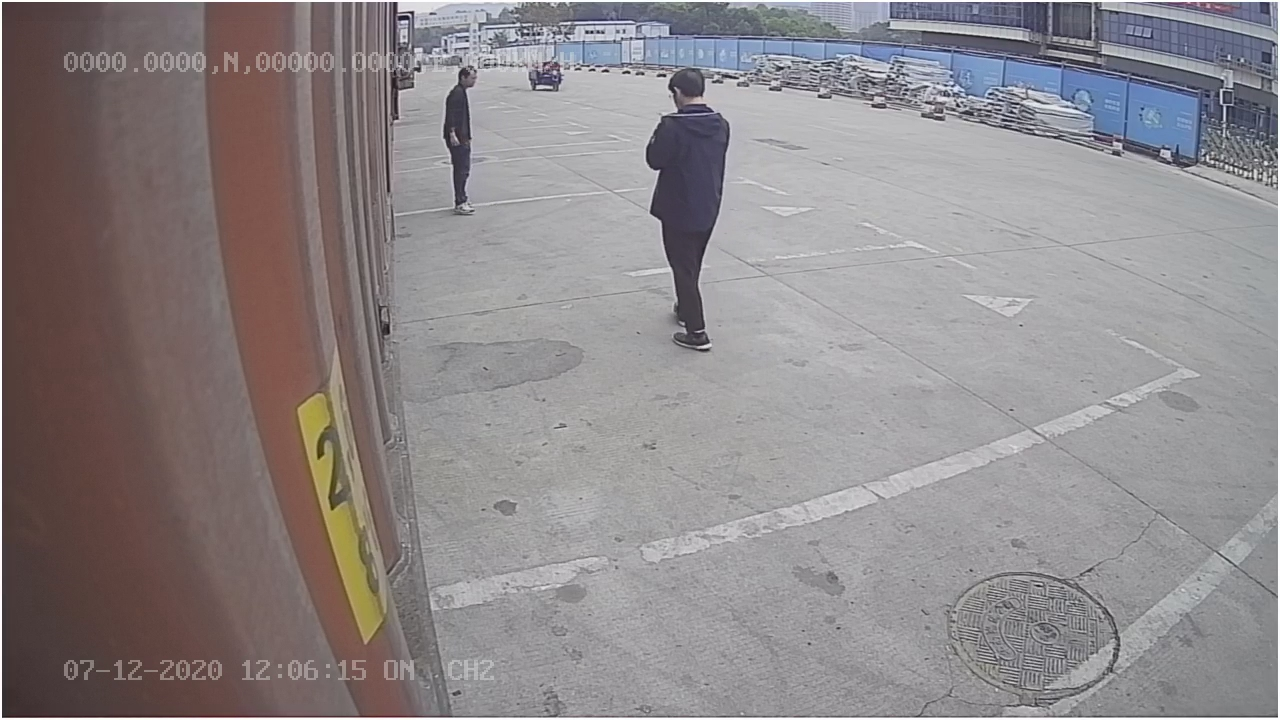person: (639, 61, 732, 351)
